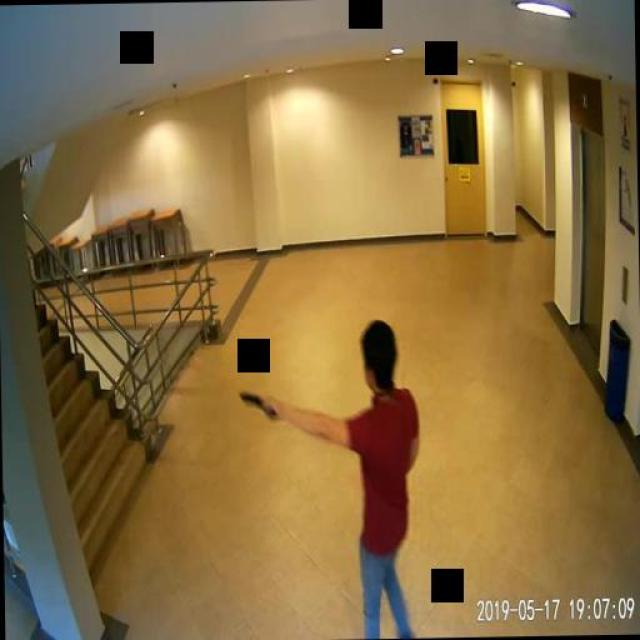gun: (238, 390, 278, 421)
